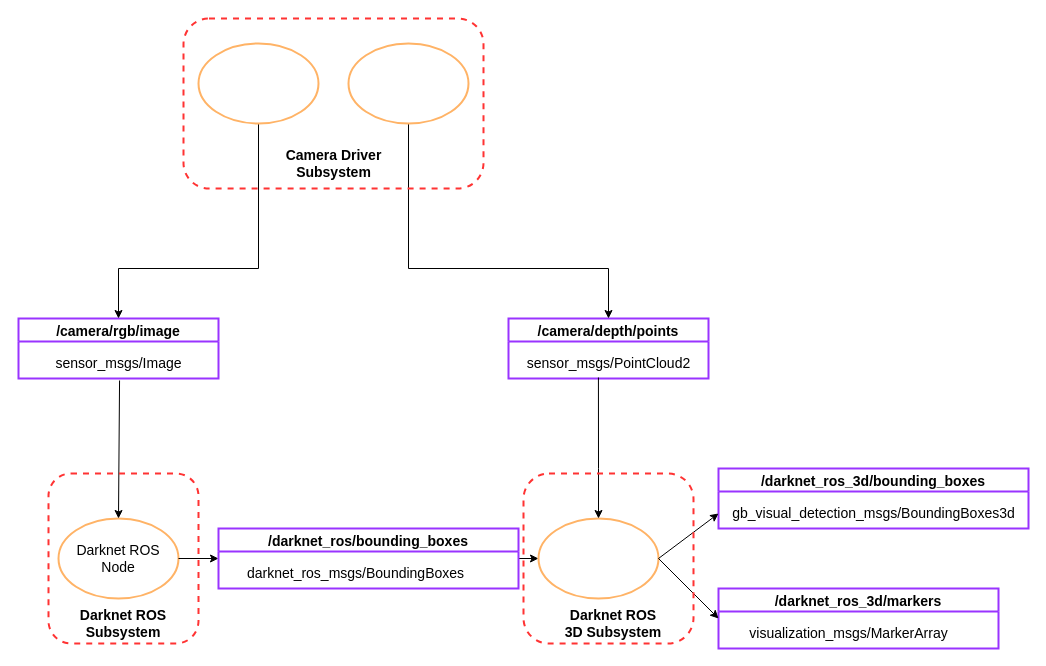
The diagram is 1046 pixels wide and 666 high, and some of its shapes have lost their labels. Here are the shapes that lost their labels. From the top down, the centre of each, then its label:
At pixel 258 83: "RGB Node".
At pixel 408 83: "Depth Node".
At pixel 598 558: "Darknet ROS 3D Node".
